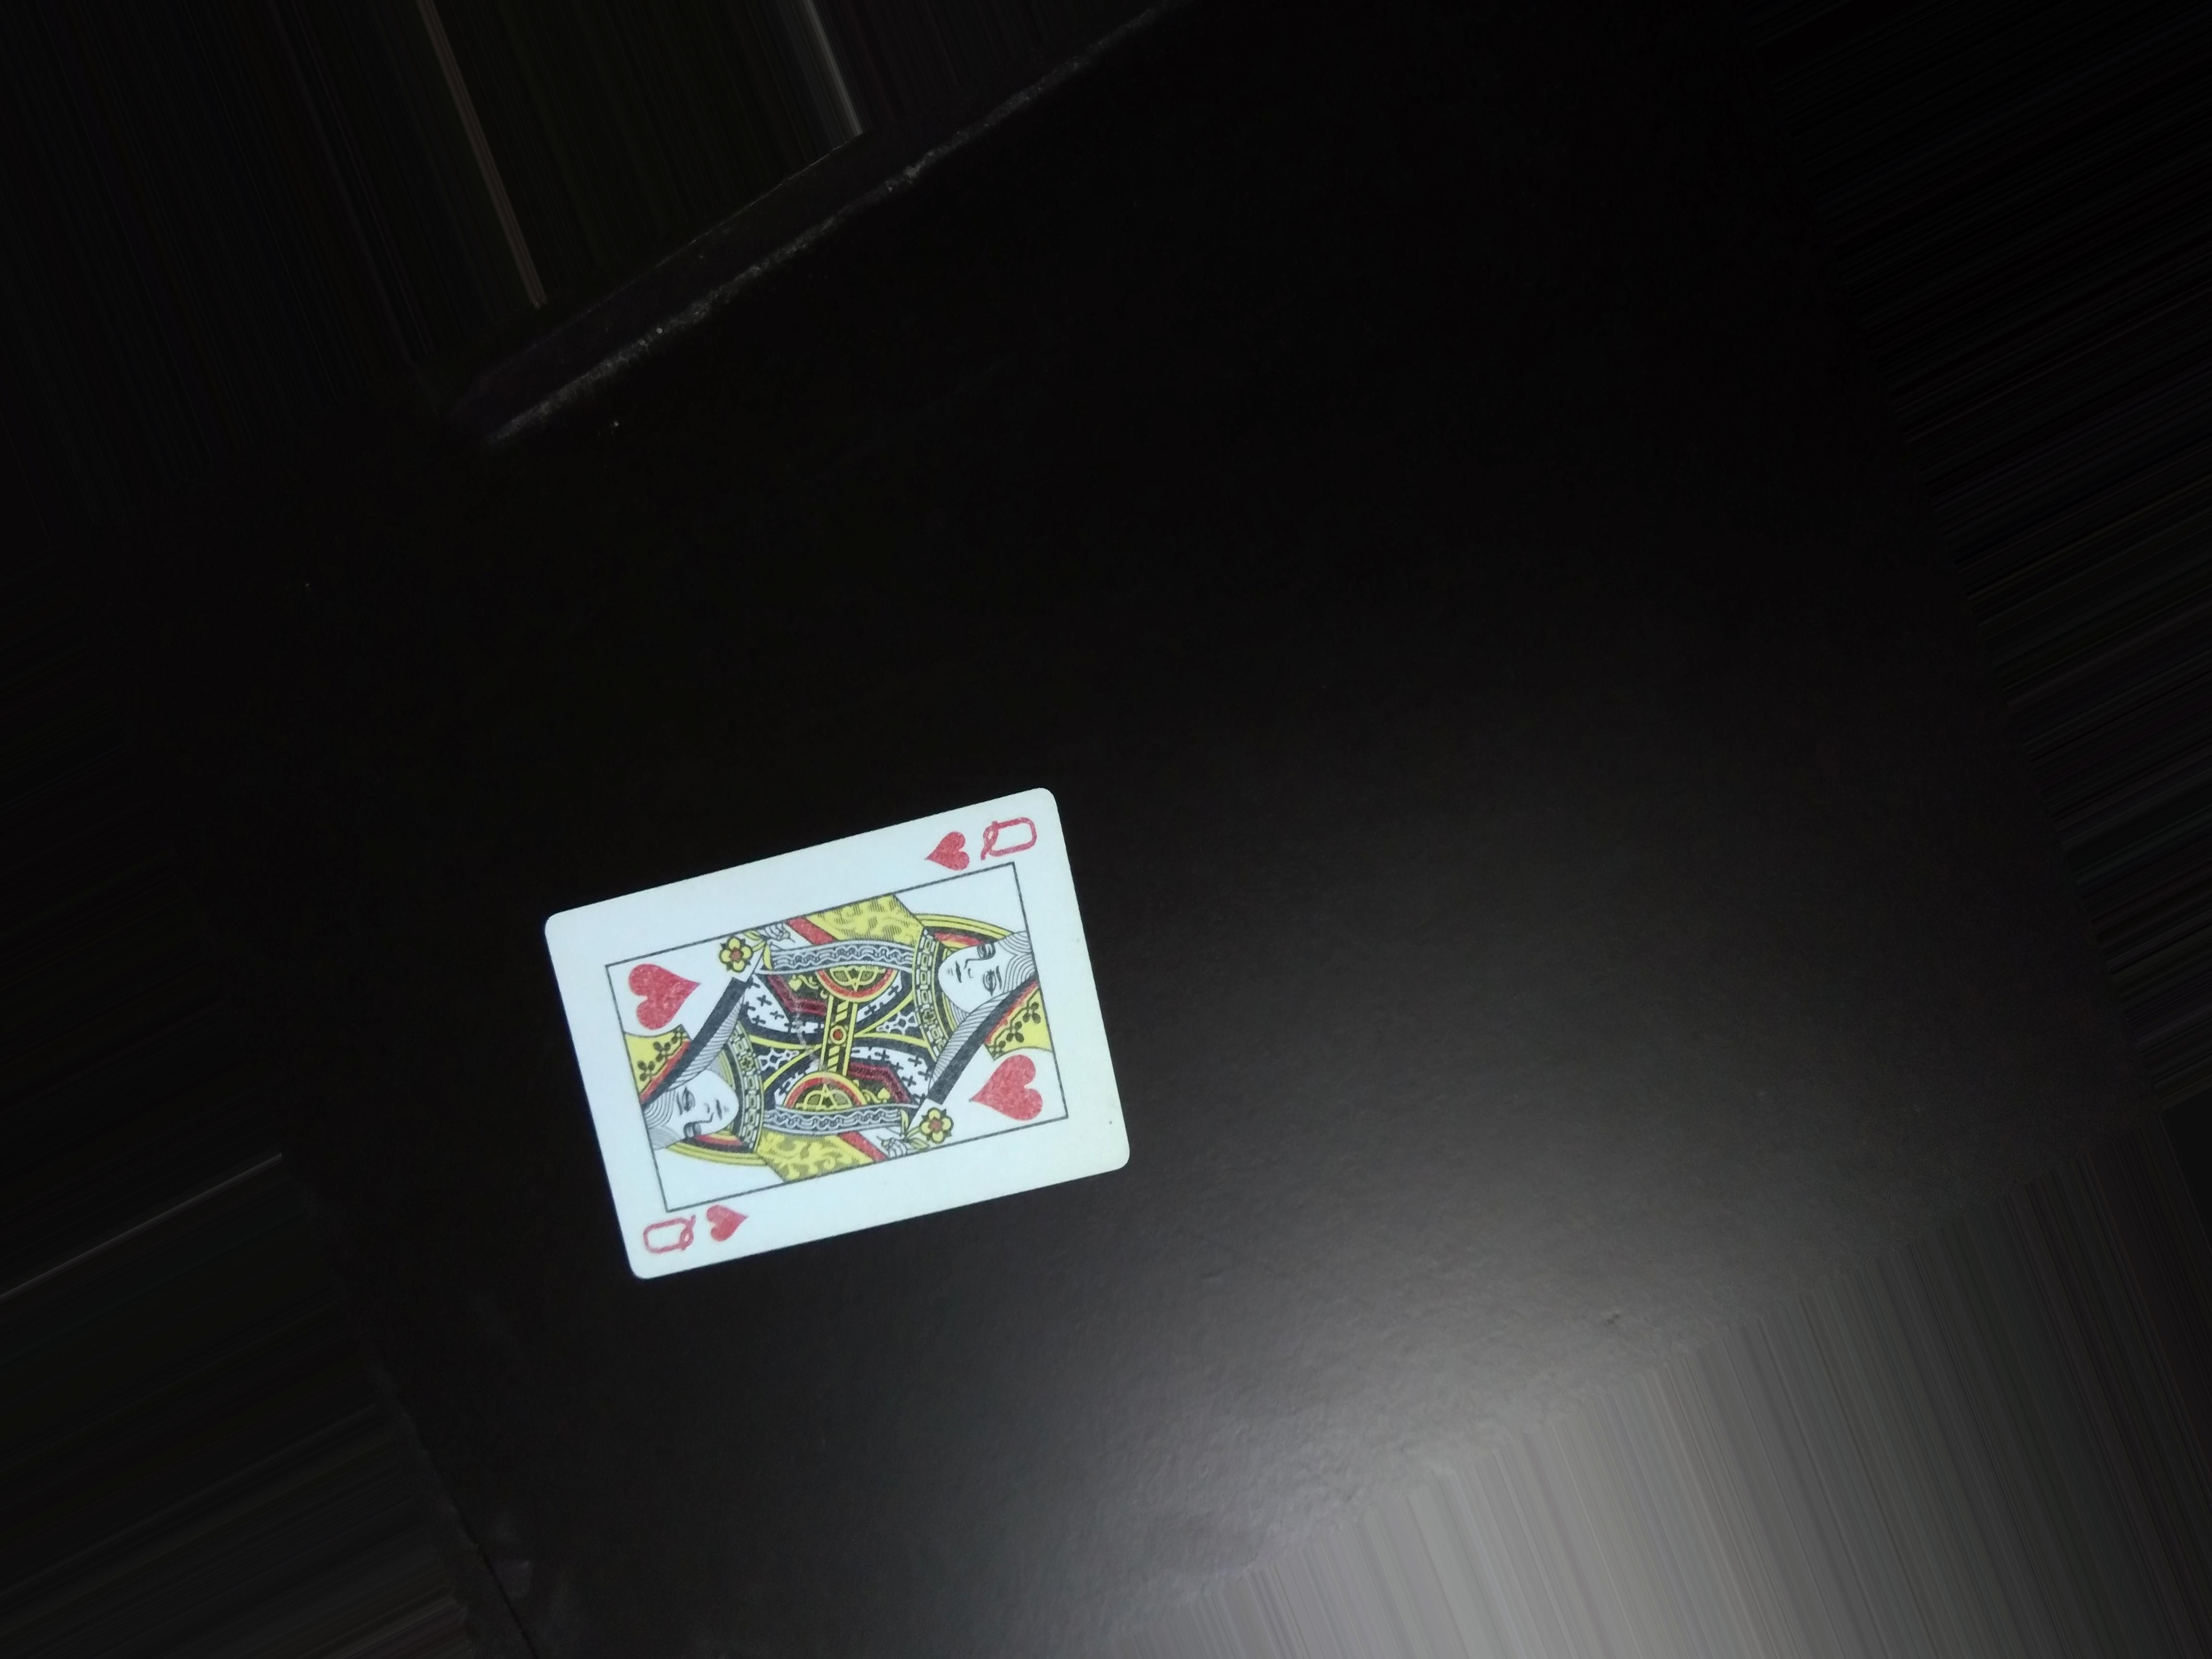QH: (904, 798, 1052, 878)
